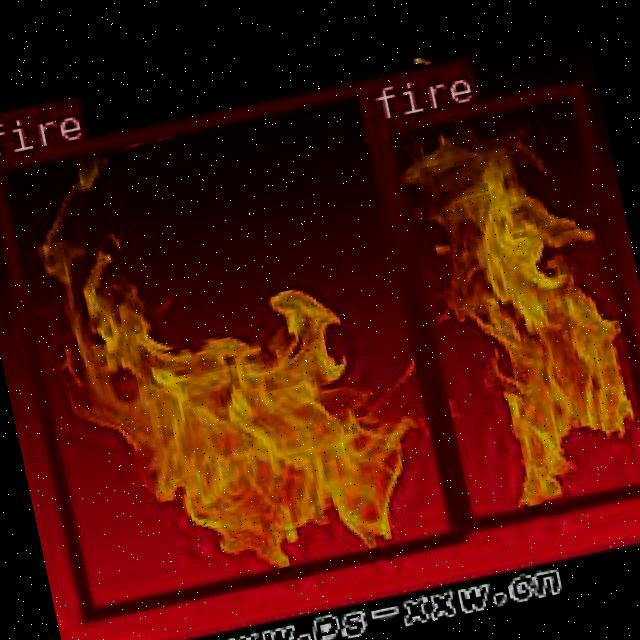fire: (0, 80, 462, 621), (373, 79, 640, 532)
